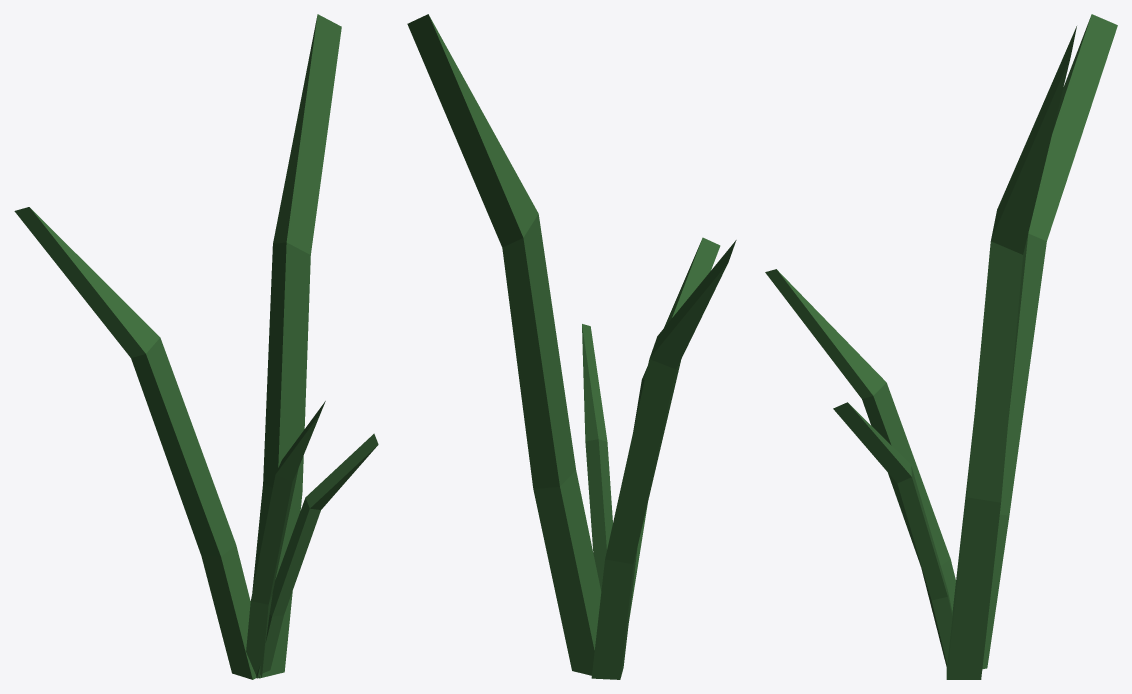
File: Grass_2_Green.fbx
3 renders of one model, left to right at view 1: azimuth 30°, elevation 25°; view 2: azimuth 150°, elevation 25°; view 3: azimuth 270°, elevation 25°, orthographic. The views are drawn at different scales.
Visible parts, largest first — view 1: Grass_2_Green; view 2: Grass_2_Green; view 3: Grass_2_Green.
Part boxes in pixels (<box>): Grass_2_Green: <box>14,14,378,679</box>; Grass_2_Green: <box>407,14,736,679</box>; Grass_2_Green: <box>765,14,1117,679</box>.
Size of the model in its own units: 9.74 by 18.04 by 8.18.
